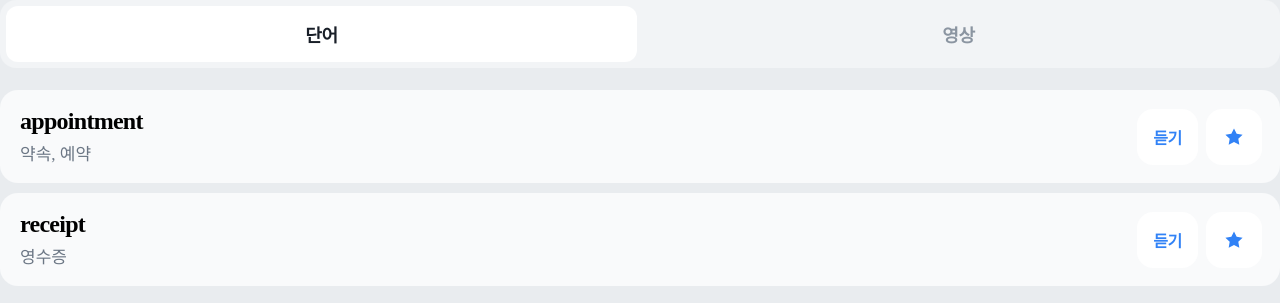
Test: 즐겨찾기 화면 › 전부 지우면 빈 상태로 바뀐다
Expected: the text "receipt" is shown, [20,211,85,238]
Click the button named "receipt 즐겨찾기 해제": (1234, 240) [1206,212,1262,268]
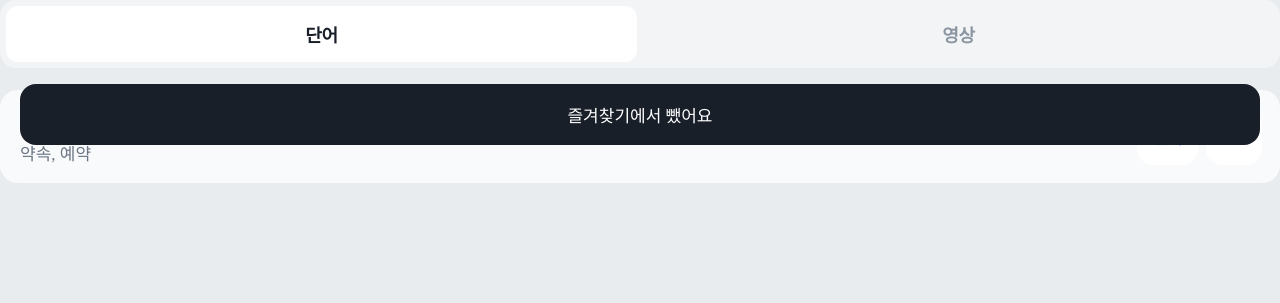
Click the button named "appointment 즐겨찾기 해제": (1234, 136) [1206,108,1262,164]
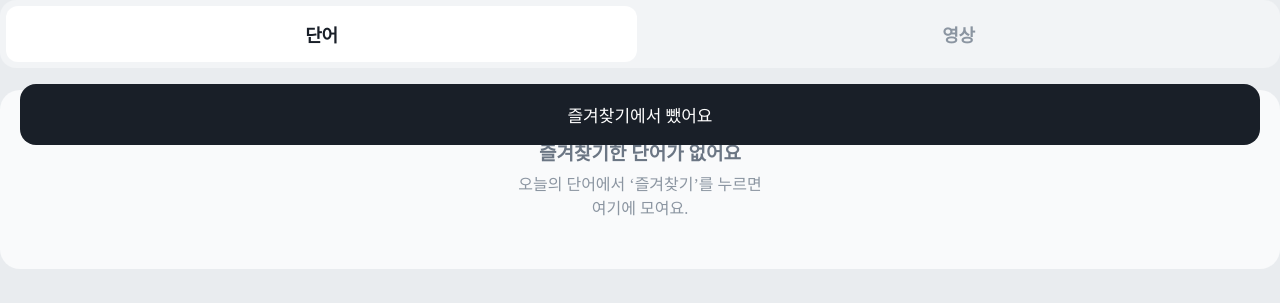
Result: the text "즐겨찾기한 단어가 없어요" is shown at [539,138,741,165]
